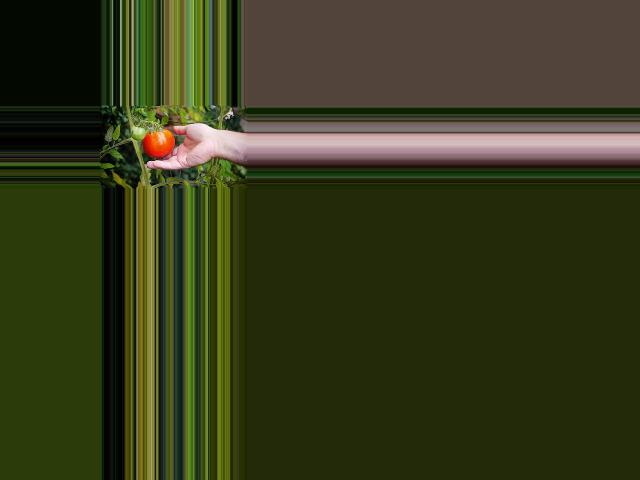tomato: (142, 129, 175, 157)
